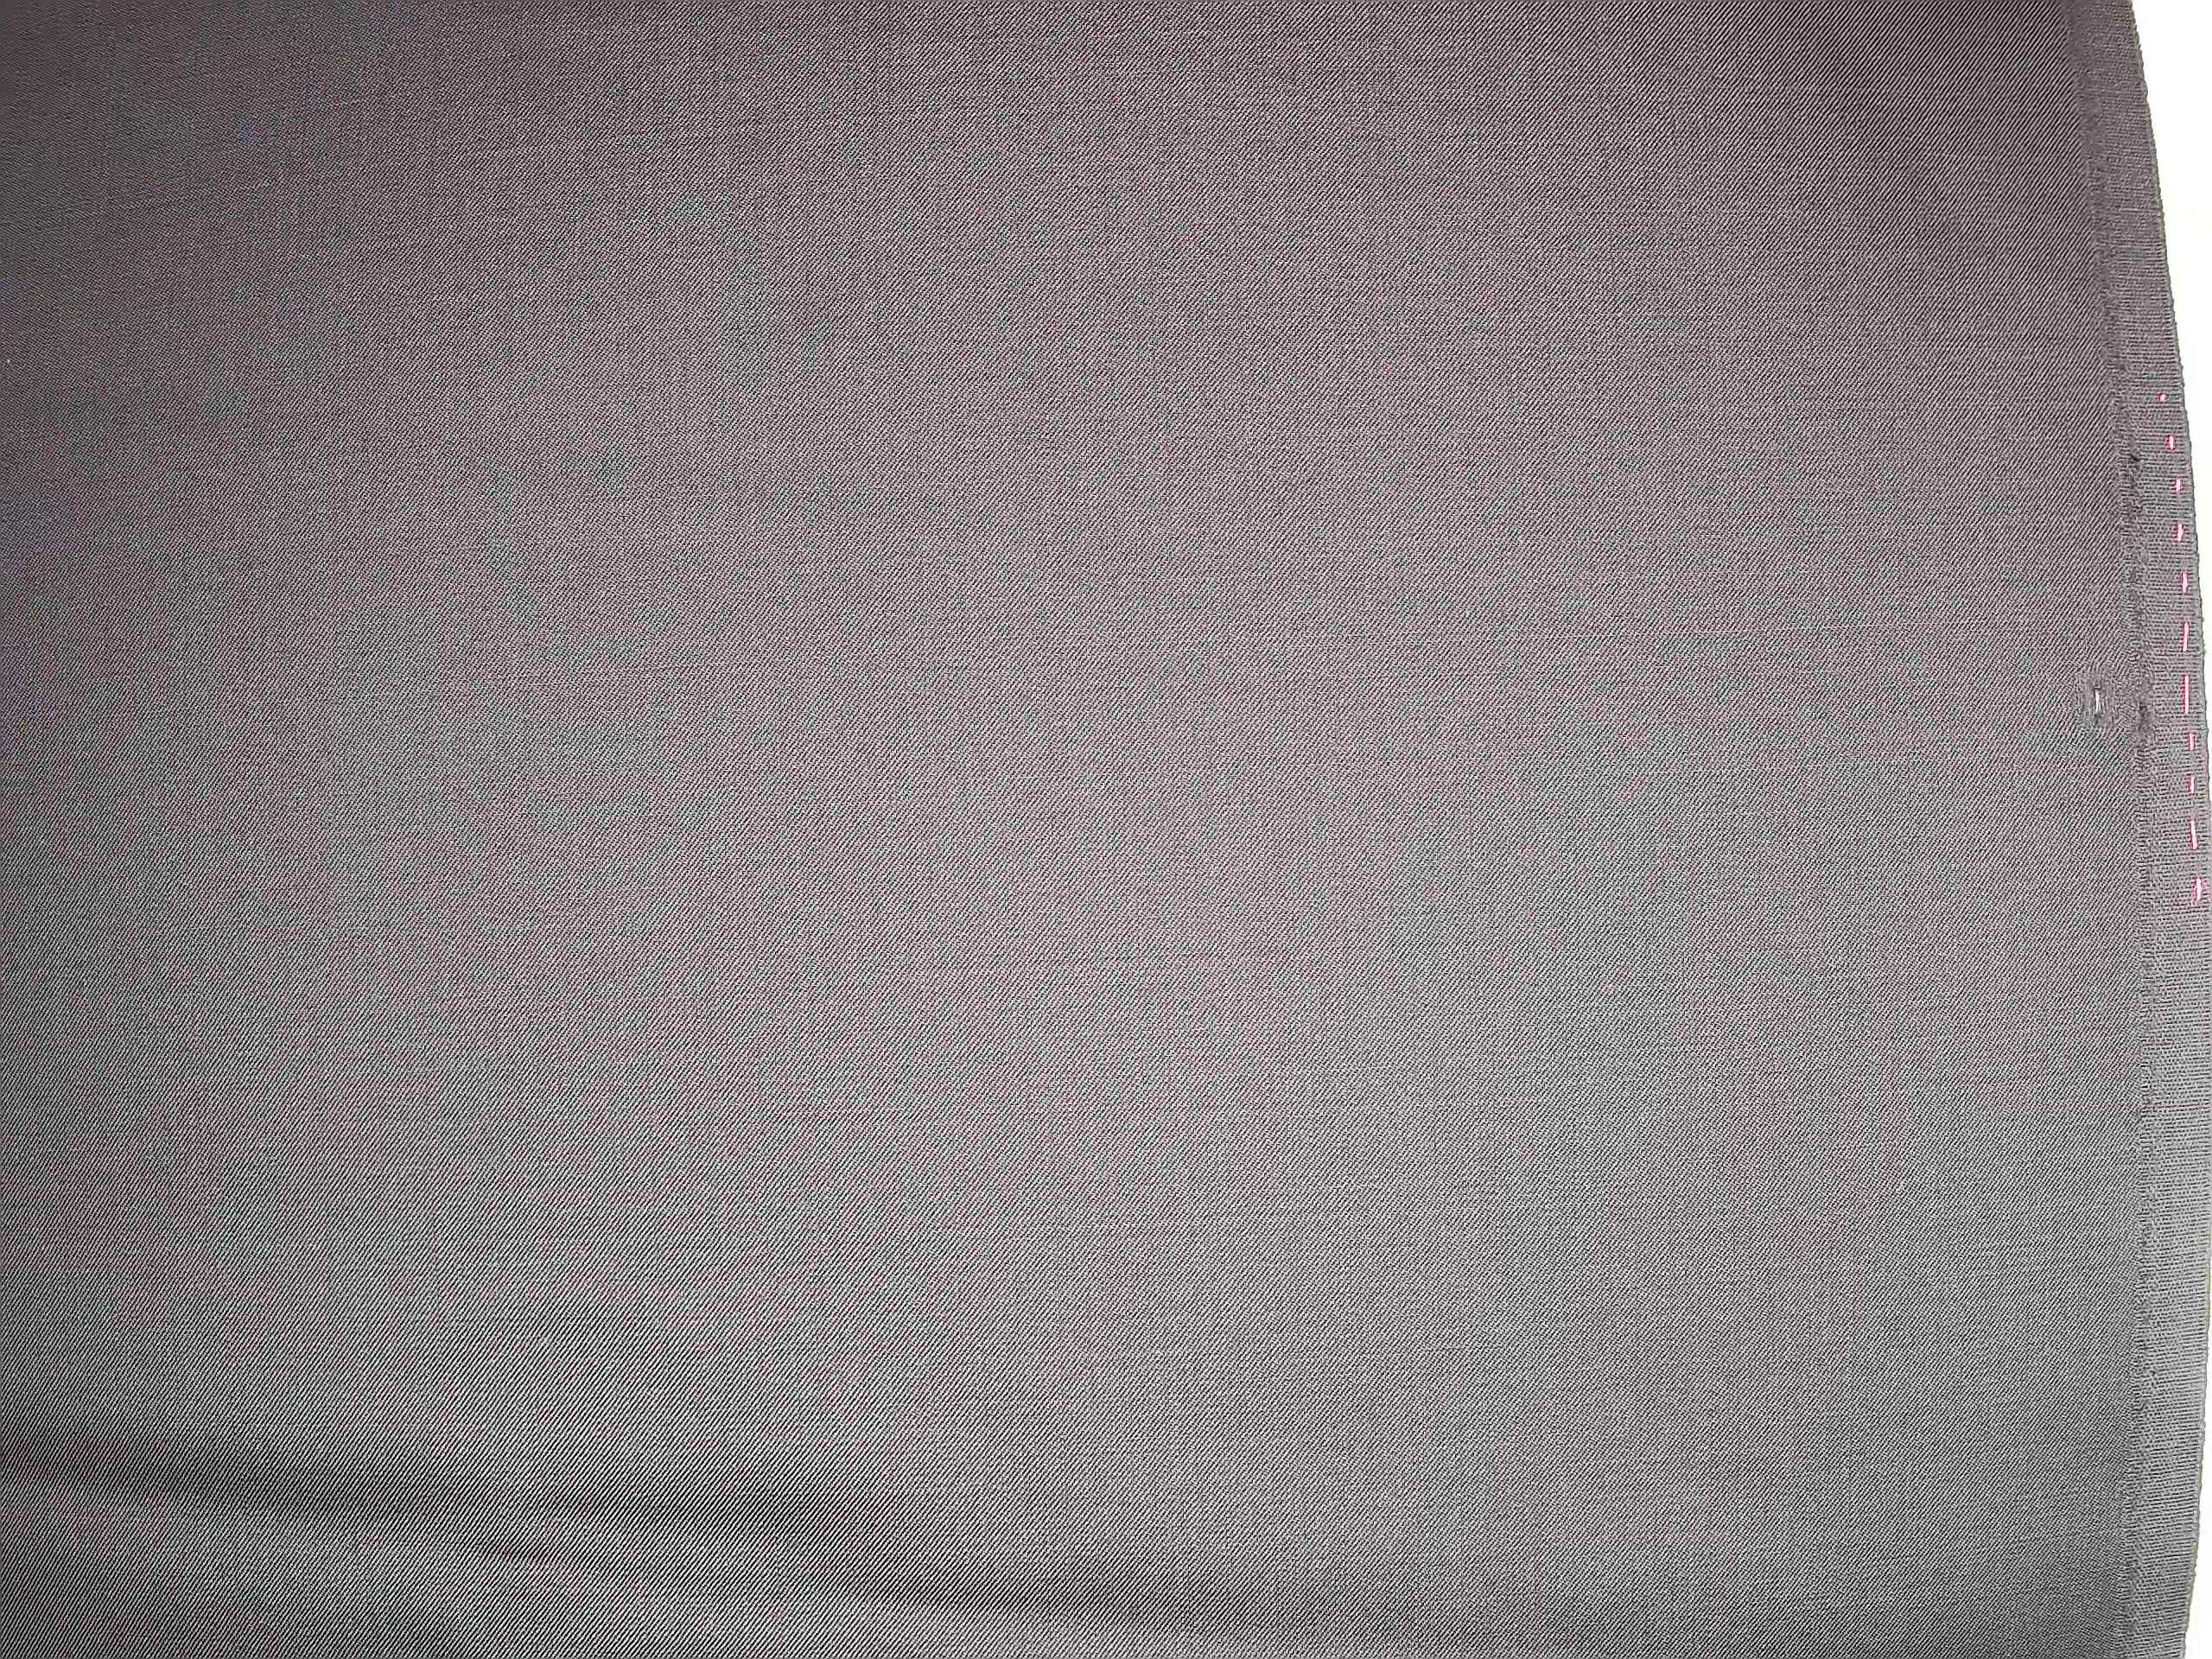brushed-hole: (2045, 634, 2139, 772)
